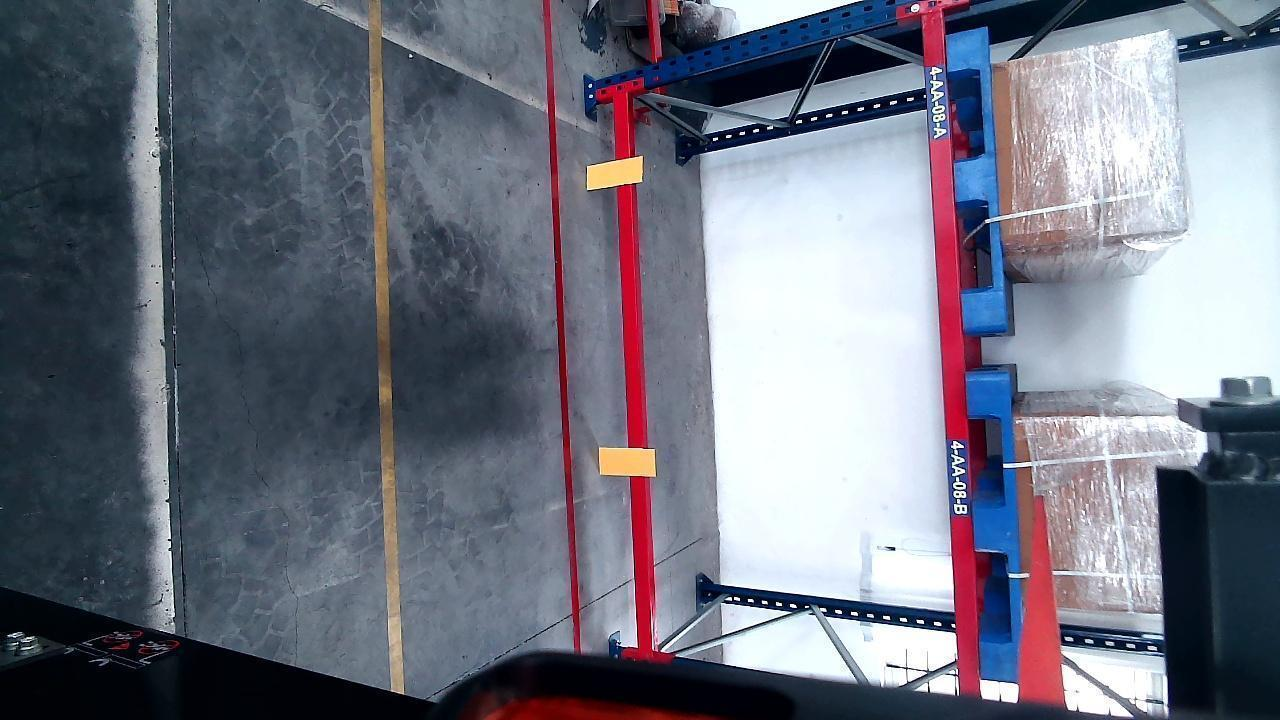red_line: (535, 0, 587, 652)
yellow_line: (368, 0, 407, 692)
